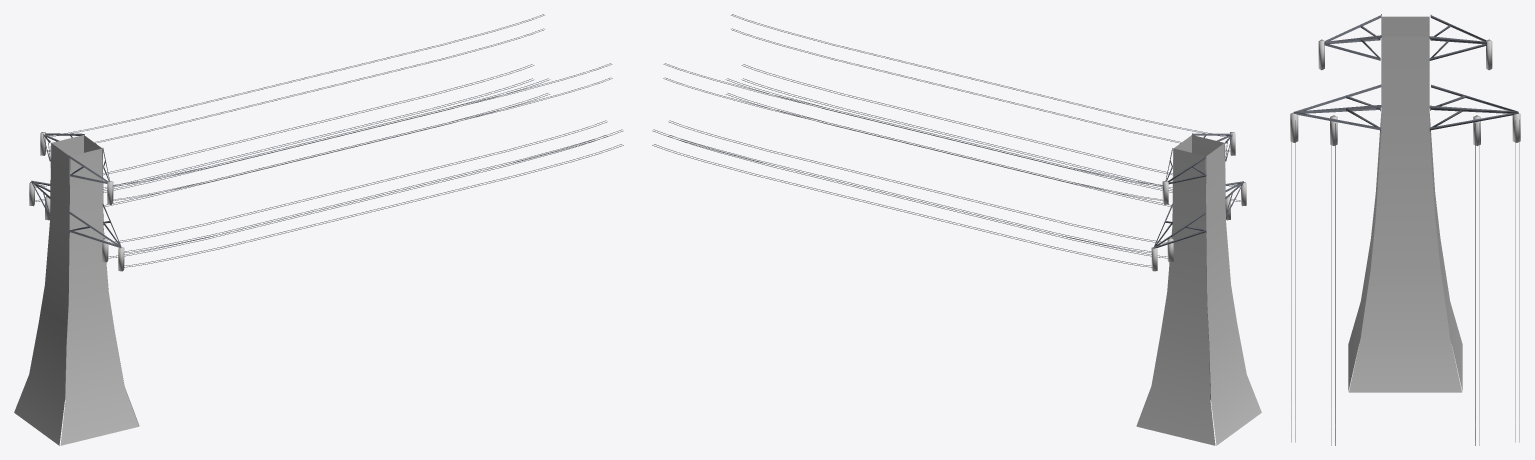
File: electric_pylon_LOD.fbx
The picture shows the model from 3 angles, left to right: view 1: azimuth 30°, elevation 25°; view 2: azimuth 150°, elevation 25°; view 3: azimuth 270°, elevation 25°; orthographic projection. The views are drawn at different scales.
Visible parts, largest first — view 1: Mesh; view 2: Mesh; view 3: Mesh.
Part boxes in pixels (x1,y1,x2,y2): Mesh: [14, 14, 623, 445]; Mesh: [652, 14, 1261, 445]; Mesh: [1290, 14, 1520, 445].
Bounding box in the file's own units: 4324 × 2103 × 1277.
